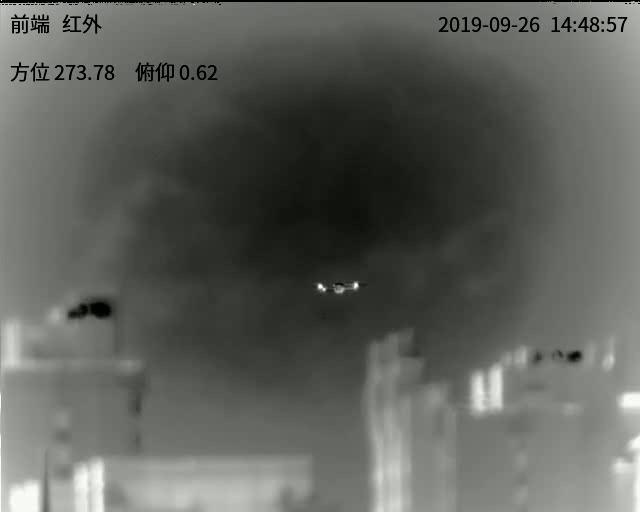DRONE: (313, 280, 363, 295)
